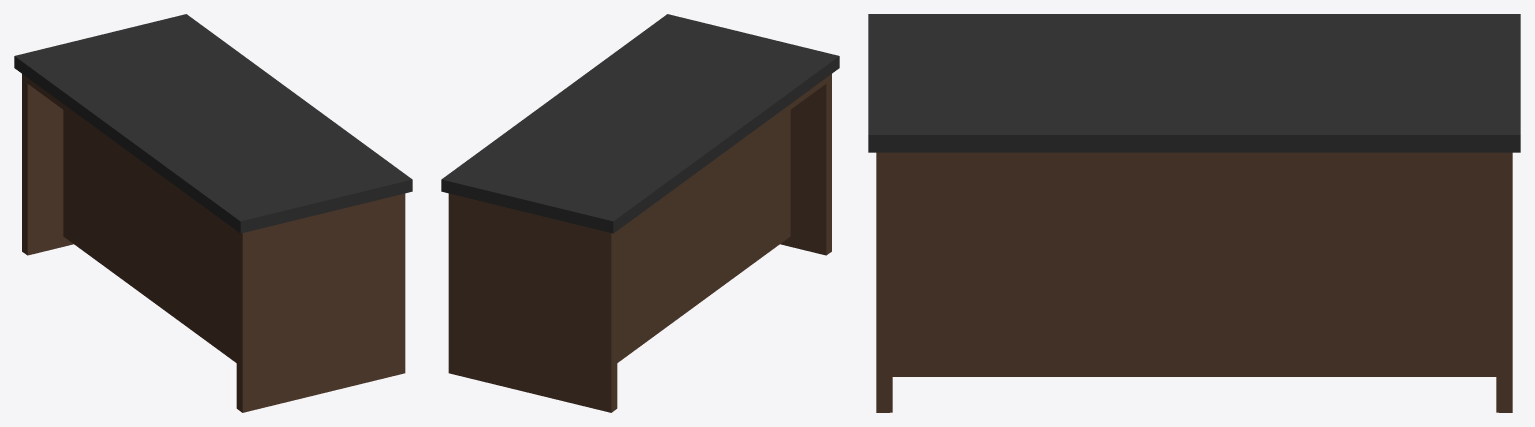
Rendered from counter.fbx.
The picture shows the model from 3 angles, left to right: view 1: azimuth 30°, elevation 25°; view 2: azimuth 150°, elevation 25°; view 3: azimuth 270°, elevation 25°; orthographic projection. The views are drawn at different scales.
Parts seen in each view (by area): view 1: Cube.001; view 2: Cube.001; view 3: Cube.001.
Part boxes in pixels (<box>): Cube.001: <box>14,14,412,412</box>; Cube.001: <box>441,14,839,412</box>; Cube.001: <box>868,14,1520,412</box>.
Bounding box in the file's own units: 495 × 535 × 1127.
